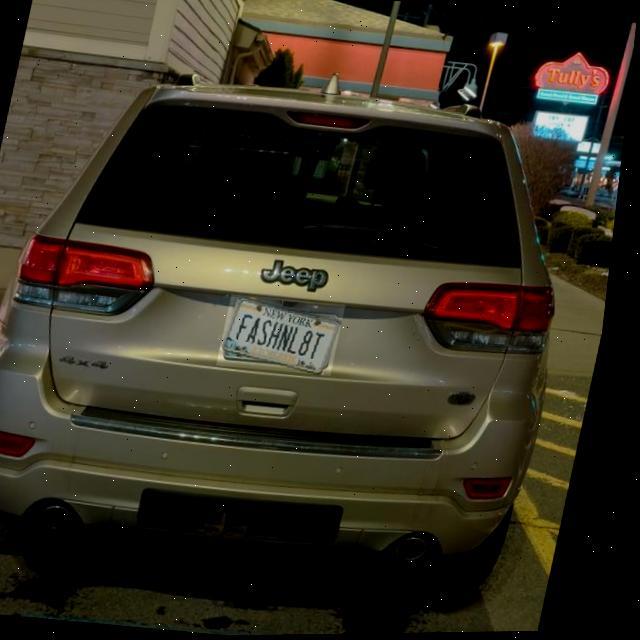LicensePlate: (228, 296, 349, 376)
